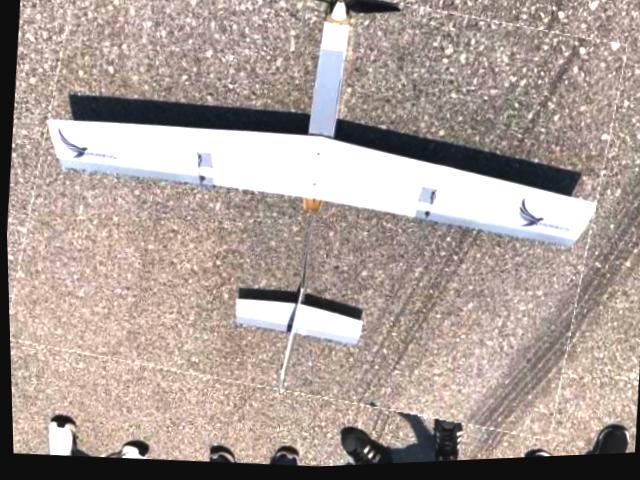insansiz-hava-araci: (1, 0, 626, 447)
